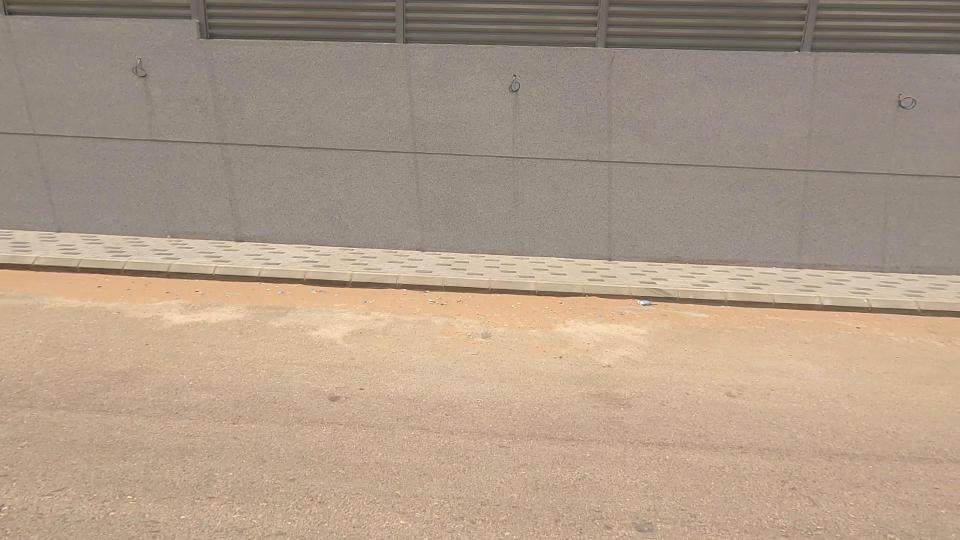GARBAGE: (615, 282, 664, 323)
